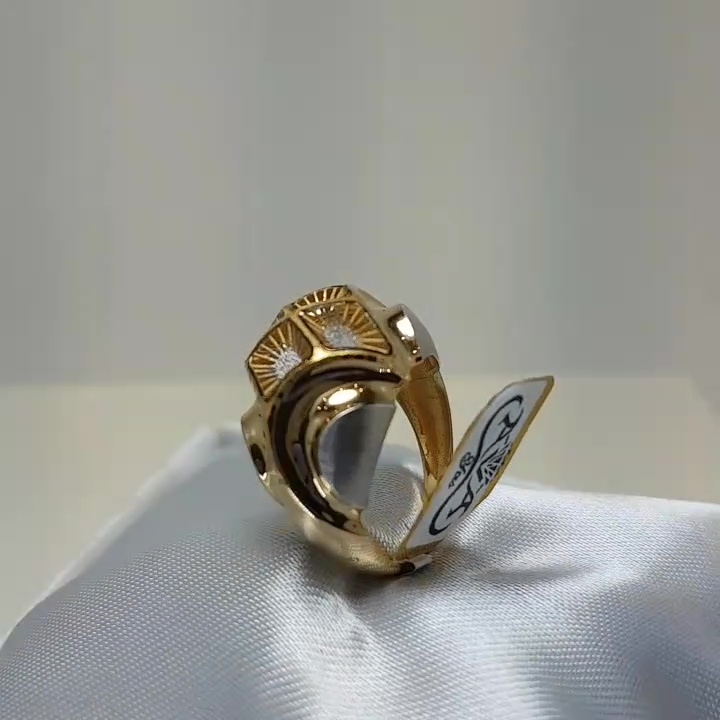Ring 2: (209, 272, 470, 592)
